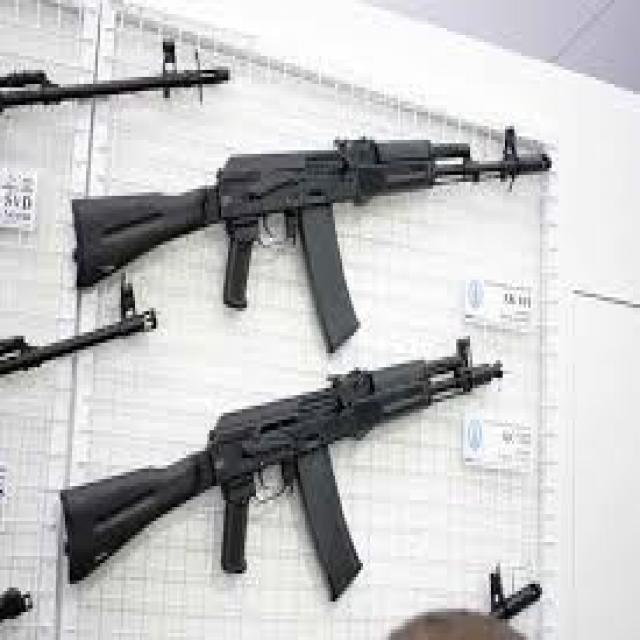weapon: (57, 334, 505, 606), (70, 122, 552, 354)
